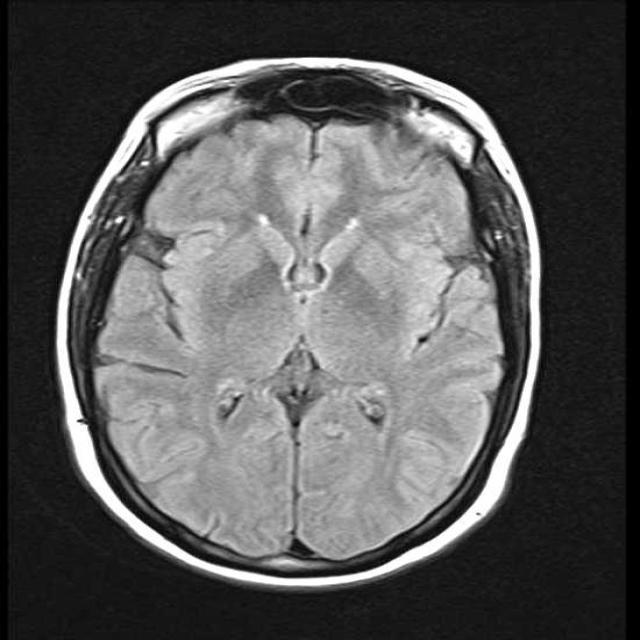notumor: (55, 59, 543, 593)
